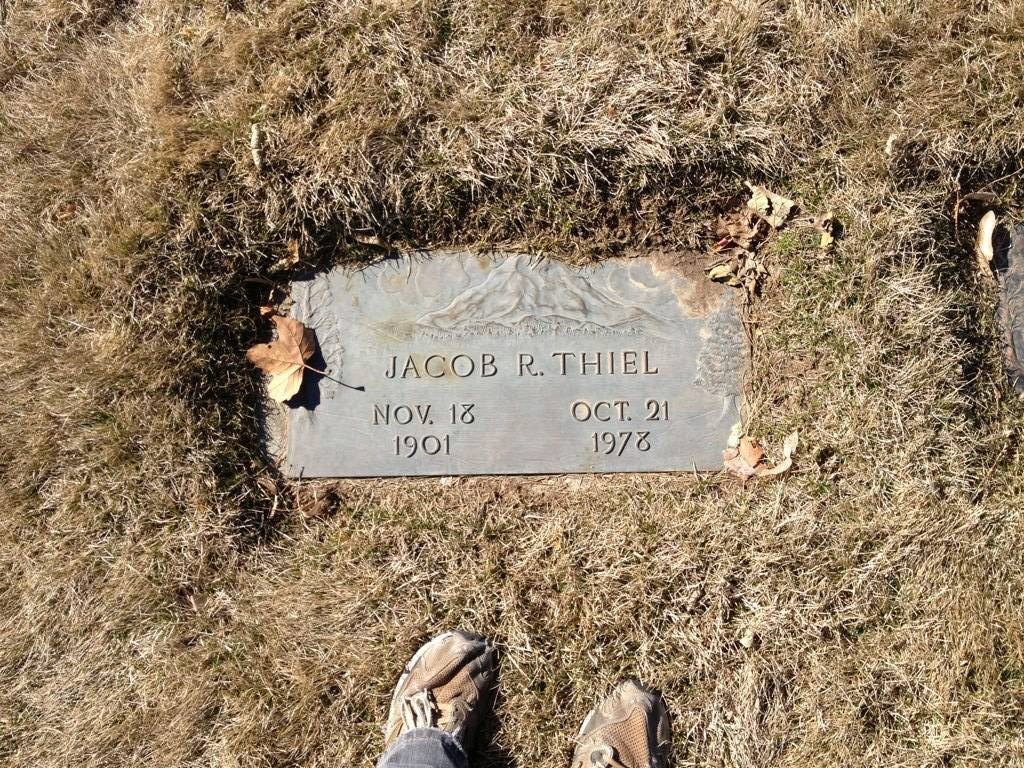flat: (257, 242, 750, 479)
